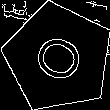O_SE: (25, 27, 91, 88)
